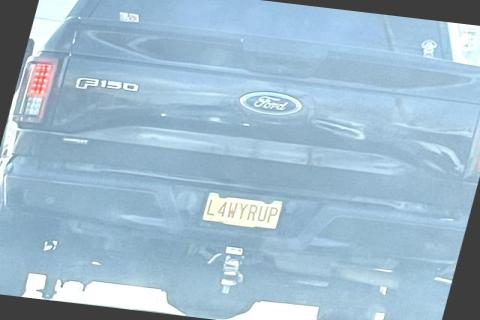LicensePlate: (196, 189, 283, 231)
